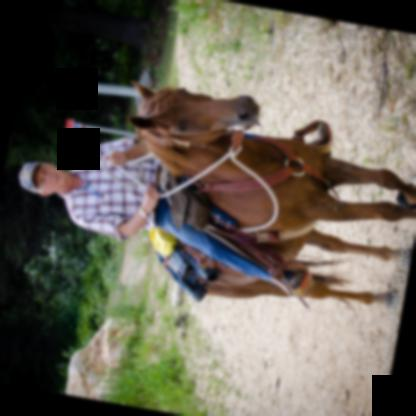handbag: (167, 170, 209, 230)
